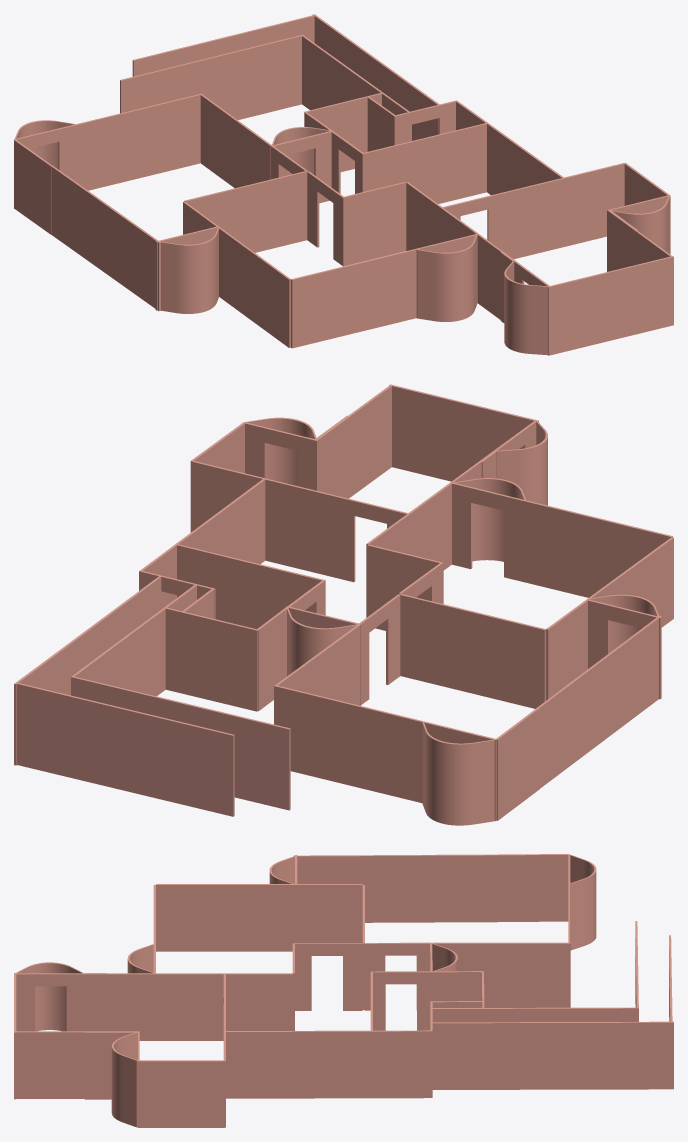
File: Wallframe.fbx
3 views of the same model, one above another, from view 1: azimuth 30°, elevation 25°; view 2: azimuth 150°, elevation 25°; view 3: azimuth 270°, elevation 25° (orthographic). The views are drawn at different scales.
Visible parts, largest first — view 1: Wallframe; view 2: Wallframe; view 3: Wallframe.
Boxes of the visible parts, <box> form: Wallframe: <box>14,14,673,355</box>; Wallframe: <box>14,384,673,825</box>; Wallframe: <box>14,854,673,1127</box>.
Bounding box in the file's own units: 1790 × 269 × 2410.
